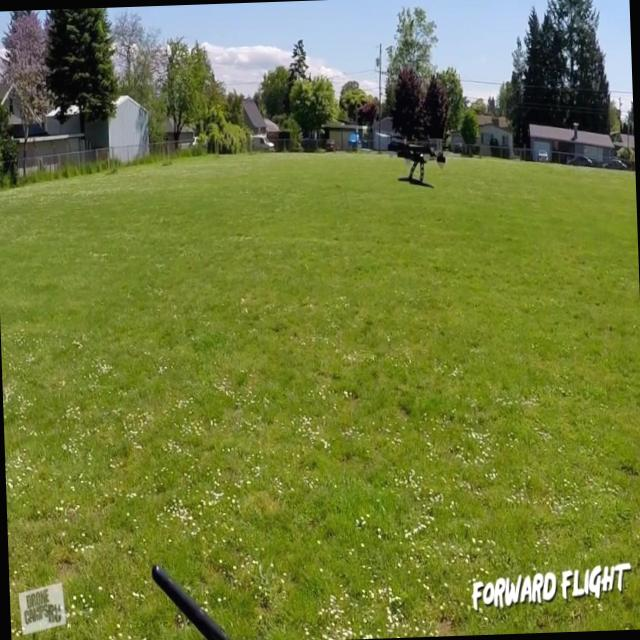drone: (377, 124, 452, 196)
